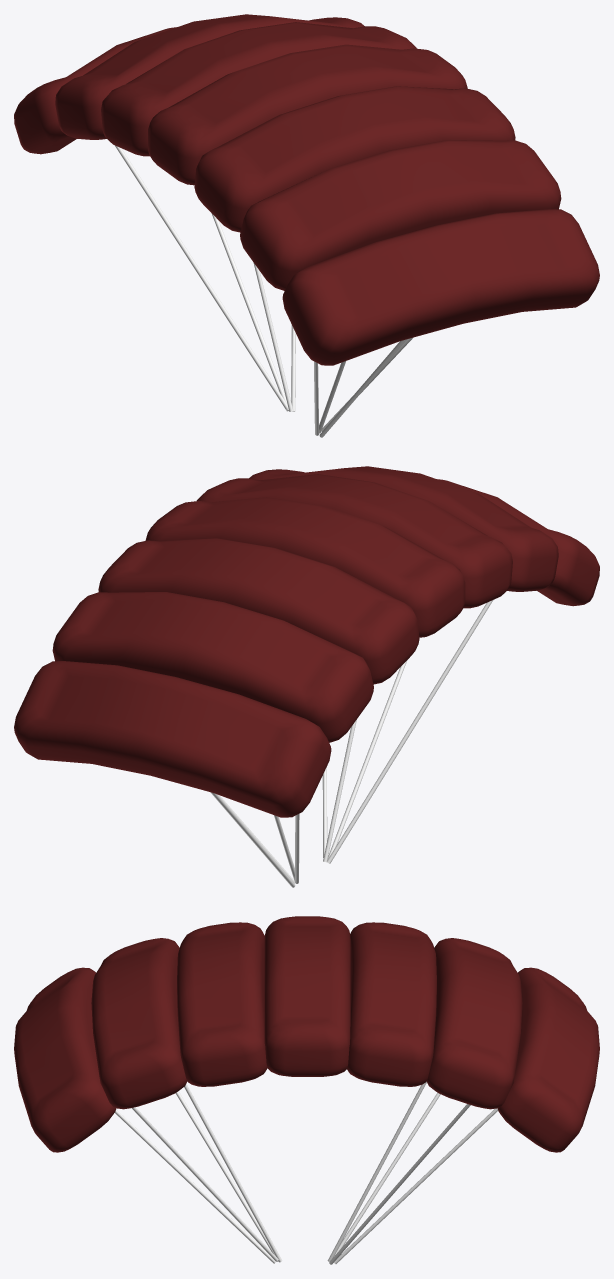
File: 3D_Model_Parachute_V2.fbx
The picture shows the model from 3 angles, top to bottom: view 1: azimuth 30°, elevation 25°; view 2: azimuth 150°, elevation 25°; view 3: azimuth 270°, elevation 25°; orthographic projection. The views are drawn at different scales.
Visible parts, largest first — view 1: polySurface26; view 2: polySurface26; view 3: polySurface26.
Part boxes in pixels (x1,y1,x2,y2): polySurface26: [14, 14, 599, 437]; polySurface26: [14, 466, 599, 887]; polySurface26: [14, 916, 599, 1264].
Size of the model in its own units: 8.58 by 10.18 by 17.15.
